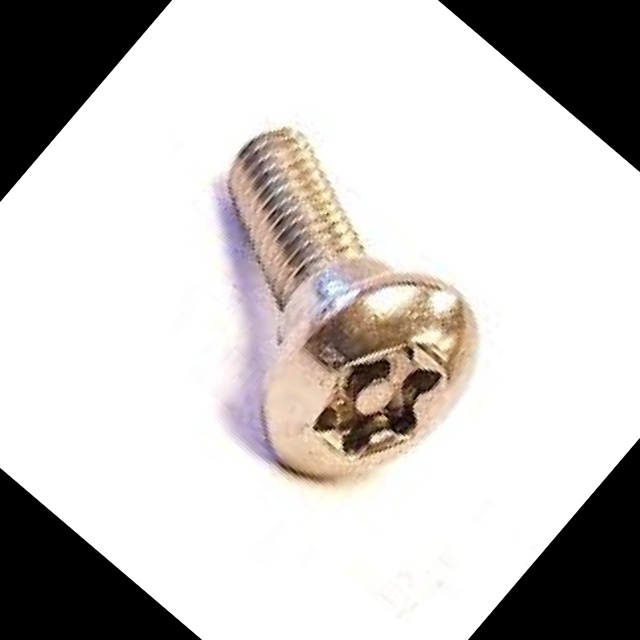torx: (225, 226, 516, 526)
